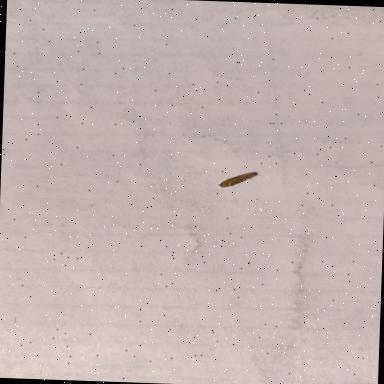pbw: (216, 169, 264, 190)
